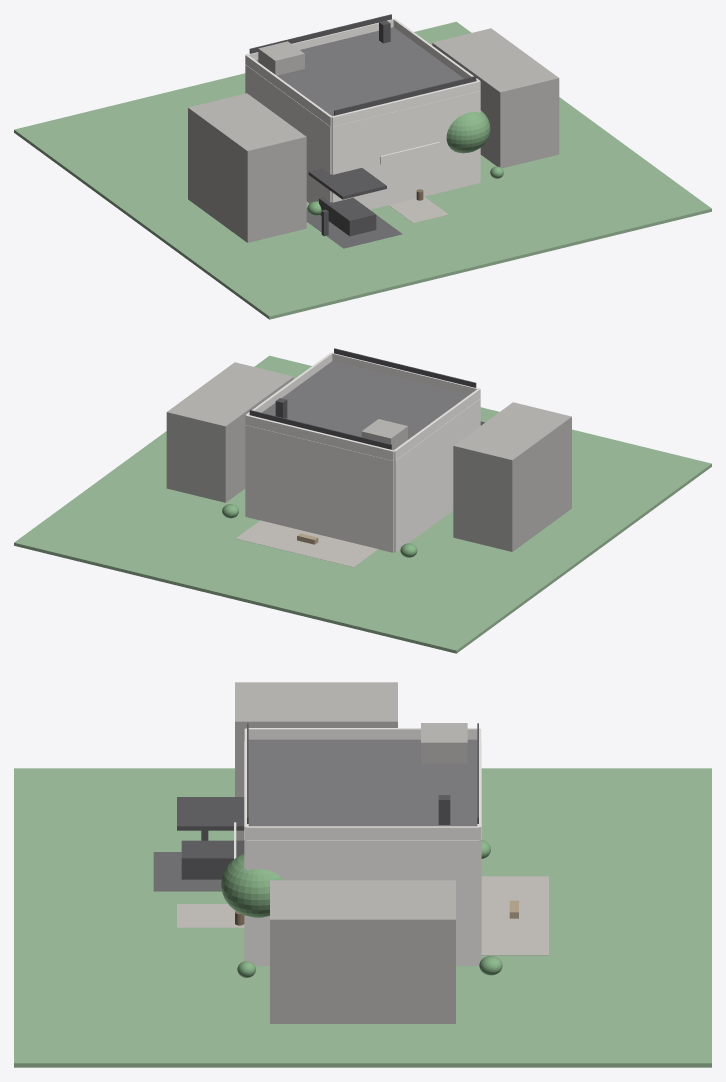
3 views of the same model, one above another, from view 1: azimuth 30°, elevation 25°; view 2: azimuth 150°, elevation 25°; view 3: azimuth 270°, elevation 25° (orthographic). The views are drawn at different scales.
Parts seen in each view (by area): view 1: Site_Grass, Site_Neighbor_W, Site_Neighbor_E, Slab_Roof, Wall_F2_S_outer, Wall_F1_S_R_outer, Wall_F2_W_outer, Wall_F1_S_L_outer, Wall_Roof_S_parapet, Site_Car, Site_CarportRoof, Site_TreeCanopy (+10 smaller); view 2: Site_Grass, Site_Neighbor_W, Site_Neighbor_E, Slab_Roof, Wall_F2_N_outer, Wall_F1_N_outer, Wall_F2_W_outer, Site_Patio, Wall_F1_W_outer, Wall_Roof_N_parapet, Wall_Roof_S_parapet, Wall_Roof_W_parapet (+4 smaller); view 3: Site_Grass, Site_Neighbor_E, Slab_Roof, Wall_F2_E_outer, Site_Neighbor_W, Site_Patio, Wall_Roof_E_parapet, Wall_F1_E_outer, Site_TreeCanopy, Site_CarportRoof, Wall_Roof_W_parapet, Site_Car (+3 smaller).
Boxes of the visible parts, box(x1,y1,x2,y2) form: Site_Grass: box(14, 21, 711, 319); Site_Neighbor_W: box(188, 93, 306, 242); Site_Neighbor_E: box(432, 28, 559, 168); Slab_Roof: box(256, 27, 469, 116); Wall_F2_S_outer: box(331, 91, 480, 173); Wall_F1_S_R_outer: box(406, 145, 480, 200); Wall_F2_W_outer: box(245, 64, 331, 172); Wall_F1_S_L_outer: box(331, 158, 406, 209); Wall_Roof_S_parapet: box(331, 81, 479, 126); Site_Car: box(319, 197, 376, 236); Site_CarportRoof: box(308, 168, 386, 199); Site_TreeCanopy: box(446, 110, 490, 153); Site_Grass: box(14, 355, 711, 653); Site_Neighbor_W: box(453, 402, 571, 551); Site_Neighbor_E: box(166, 362, 293, 502); Slab_Roof: box(256, 361, 469, 442); Wall_F2_N_outer: box(245, 425, 394, 507); Wall_F1_N_outer: box(245, 471, 394, 552); Wall_F2_W_outer: box(394, 398, 480, 506); Site_Patio: box(236, 520, 378, 567); Wall_F1_W_outer: box(394, 465, 453, 552); Wall_Roof_N_parapet: box(246, 415, 394, 460); Wall_Roof_S_parapet: box(331, 352, 479, 394); Wall_Roof_W_parapet: box(393, 389, 480, 460); Site_Grass: box(14, 768, 711, 1067); Site_Neighbor_E: box(270, 880, 455, 1023); Slab_Roof: box(248, 739, 477, 826); Wall_F2_E_outer: box(246, 840, 479, 903); Site_Neighbor_W: box(235, 682, 397, 840); Site_Patio: box(481, 876, 548, 955); Wall_Roof_E_parapet: box(246, 826, 479, 840); Wall_F1_E_outer: box(246, 904, 479, 965); Site_TreeCanopy: box(221, 854, 283, 917); Site_CarportRoof: box(177, 797, 244, 830); Wall_Roof_W_parapet: box(246, 728, 479, 739); Site_Car: box(181, 840, 244, 879).
Size of the model in its own units: 30 by 7.45 by 30.
